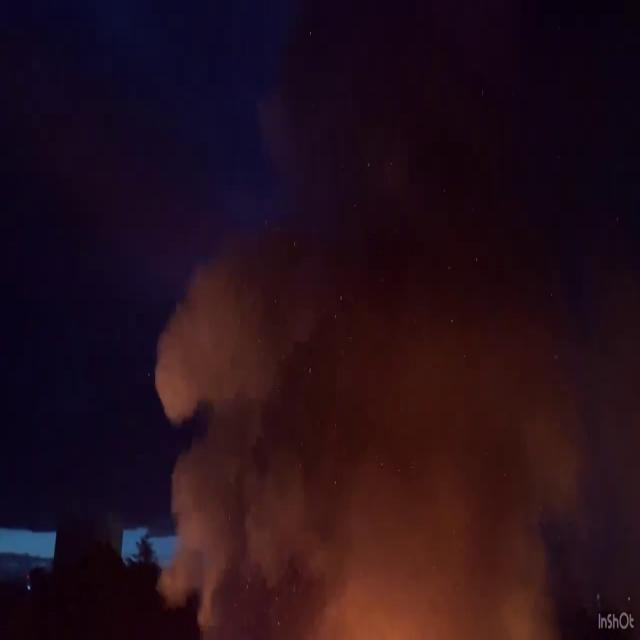Smoke: (133, 9, 607, 637)
